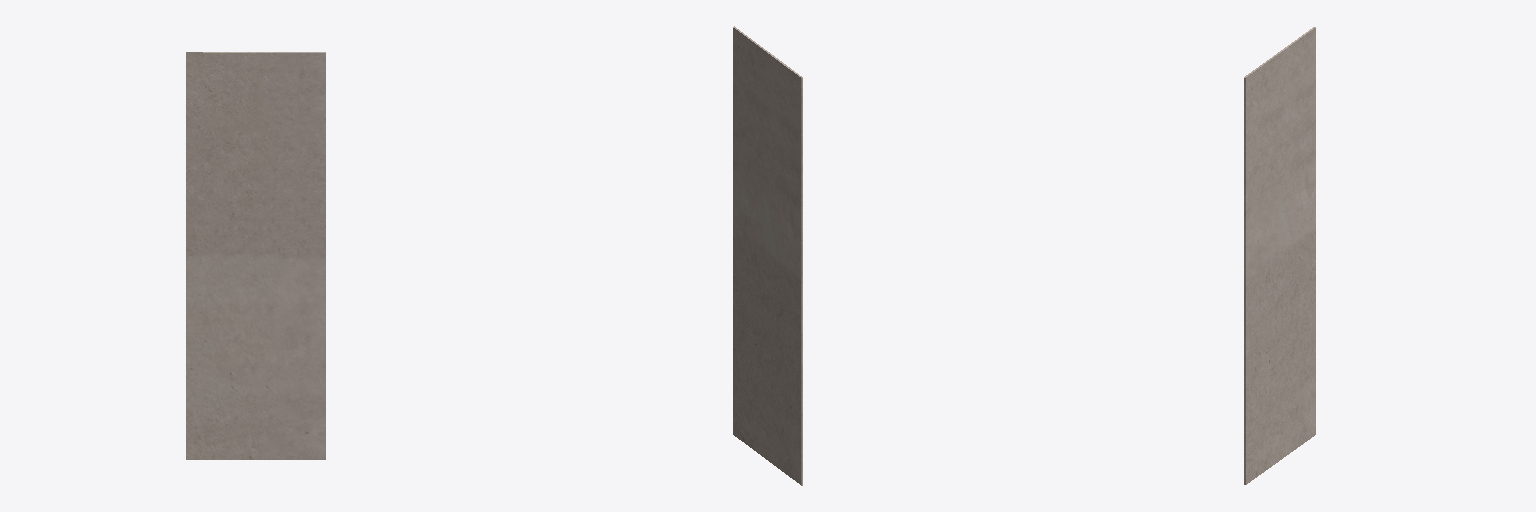
3 views of the same model, side by side, from view 1: azimuth 30°, elevation 25°; view 2: azimuth 150°, elevation 25°; view 3: azimuth 270°, elevation 25° (orthographic).
Visible parts, largest first — view 1: Box_15_FlapOuter_2; view 2: Box_15_FlapOuter_2; view 3: Box_15_FlapOuter_2.
Boxes of the visible parts, x1,y1,x2,y2 form: Box_15_FlapOuter_2: [186, 52, 325, 459]; Box_15_FlapOuter_2: [733, 26, 802, 485]; Box_15_FlapOuter_2: [1244, 27, 1315, 484].
Bounding box in the file's own units: 0.1052 × 0.3892 × 0.0627.
1 materials, 1 textured.